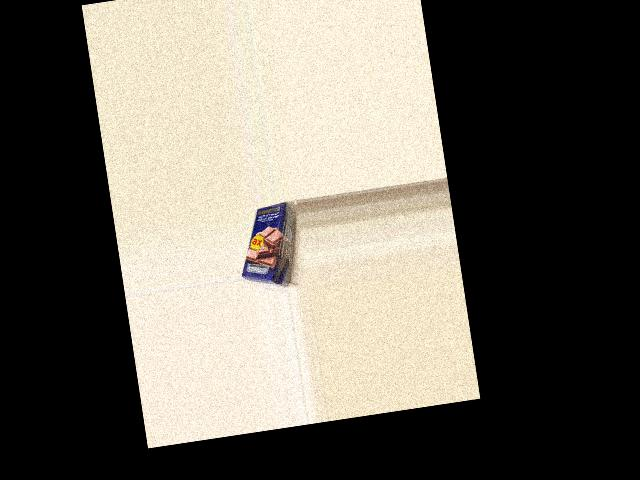chocolate: (230, 201, 302, 287)
